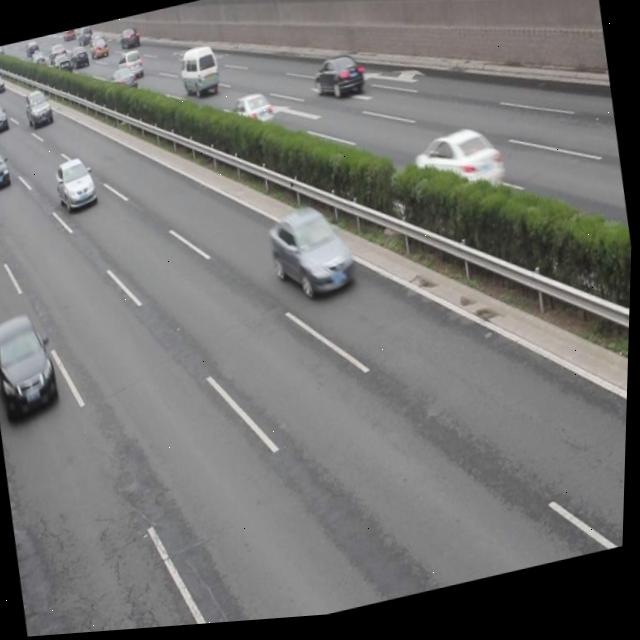car: (266, 200, 361, 312), (412, 126, 509, 218), (0, 306, 64, 427), (310, 52, 369, 112), (52, 154, 100, 217), (226, 93, 278, 145), (0, 145, 14, 192)
truck: (176, 43, 224, 106)
